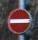No entry: (5, 6, 33, 35)
